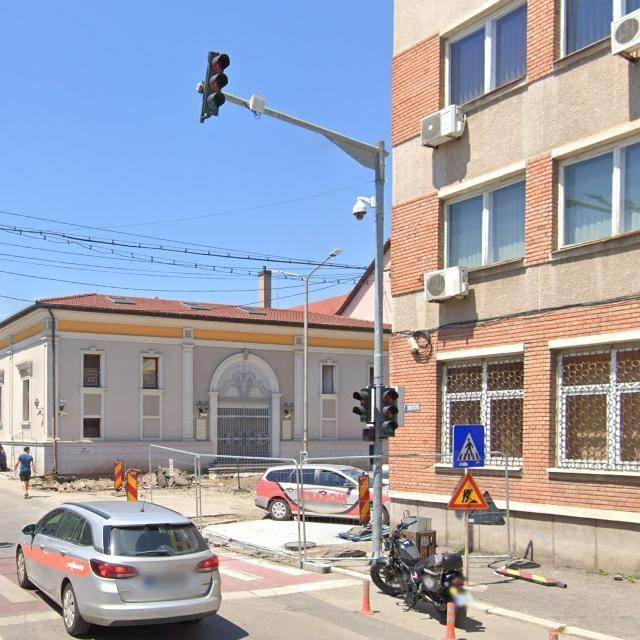info_crosswalk: (452, 424, 485, 468)
